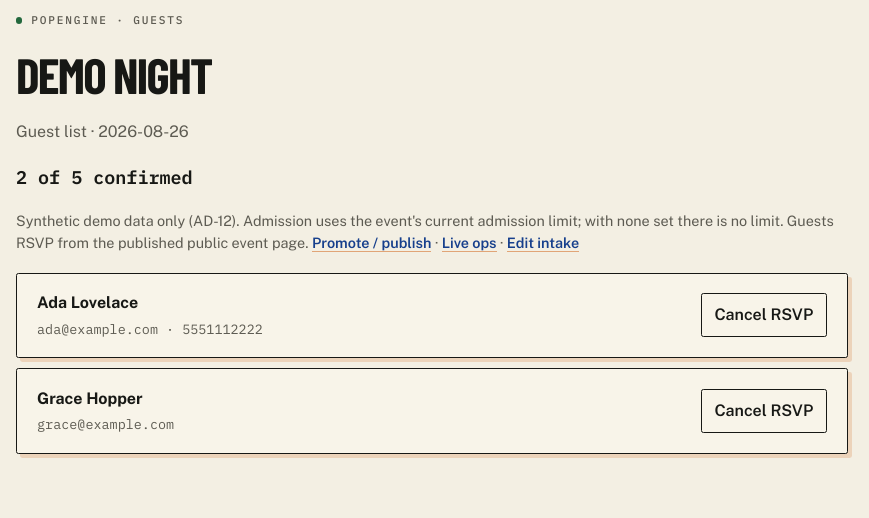
it: GuestListView › keeps an earlier successful cancel when a newer cancel fails
Check: the text "2 of 5 confirmed" is shown, box [16, 165, 193, 189]
What coordinates should you click on to do the following:
click the button "Cancel RSVP" in the row of "Ada Lovelace"
I would click on:
 (764, 315)
Its box is [701, 293, 827, 337].
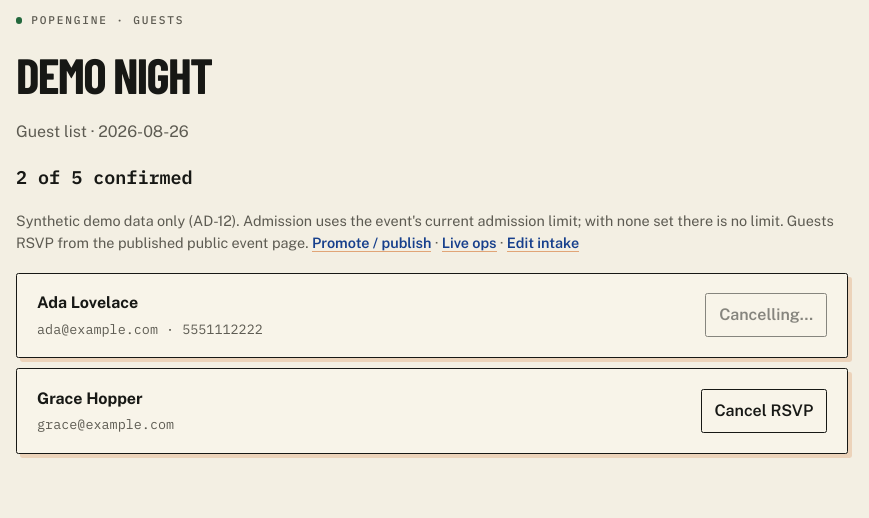
What coordinates should you click on to do the following:
click the button "Cancel RSVP"
I would click on:
 (764, 411)
Its box is [701, 389, 827, 433].
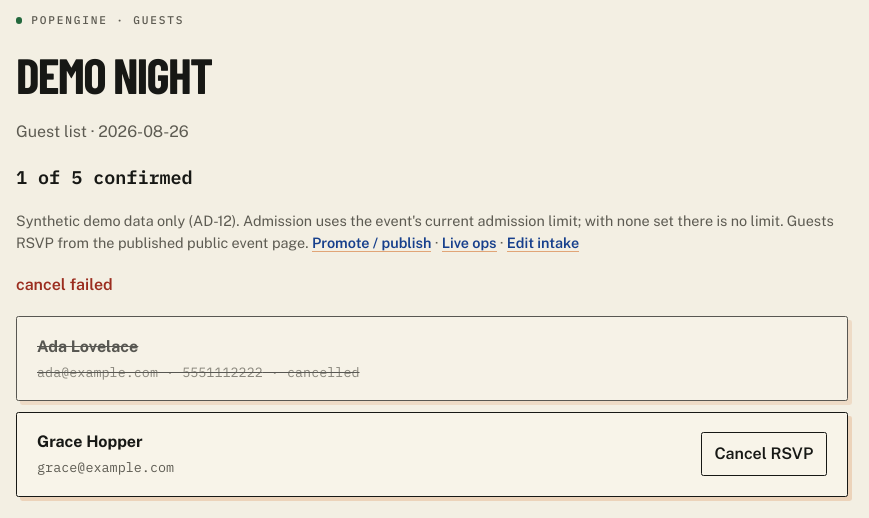
Check: the message reads "cancel failed", box [16, 275, 113, 294]
Check: the text "1 of 5 confirmed" is shown, box [16, 165, 193, 189]
